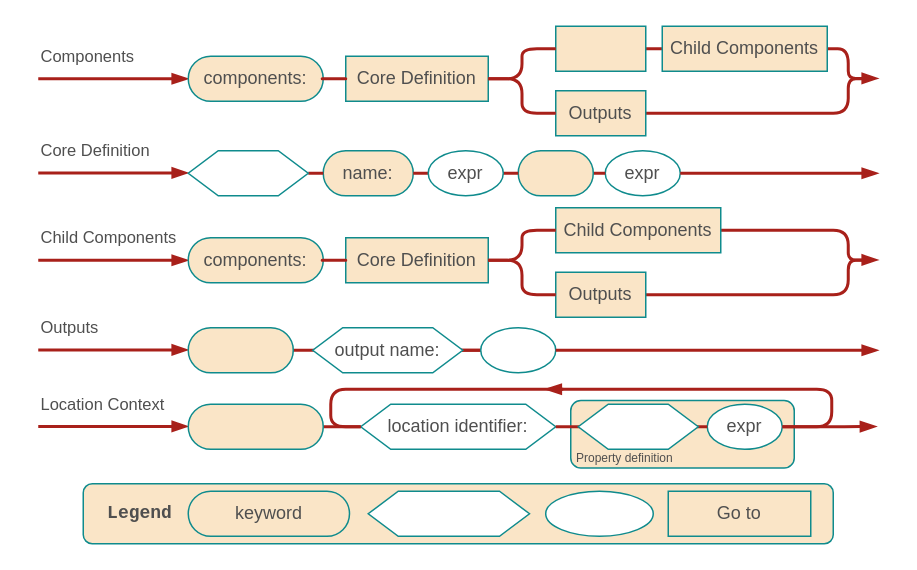
The diagram is 917 pixels wide and 570 high, and some of its shapes have lost their labels. Each missing label, with the centre of its shape:
identifier: point 247,172
identifier:: point 637,426
Locations: point 600,48
locations:: point 255,426
outputs:: point 240,349
String: point 598,513
type: point 517,349
type:: point 555,172
variable: point 448,513
